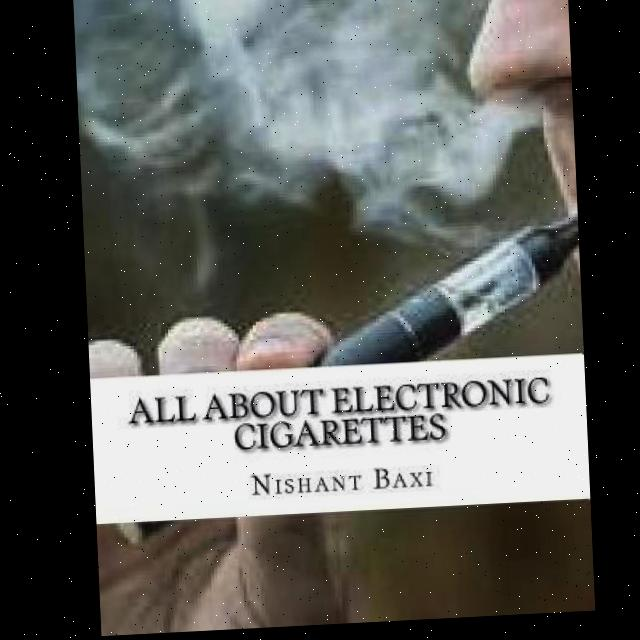vape: (307, 220, 581, 369)
